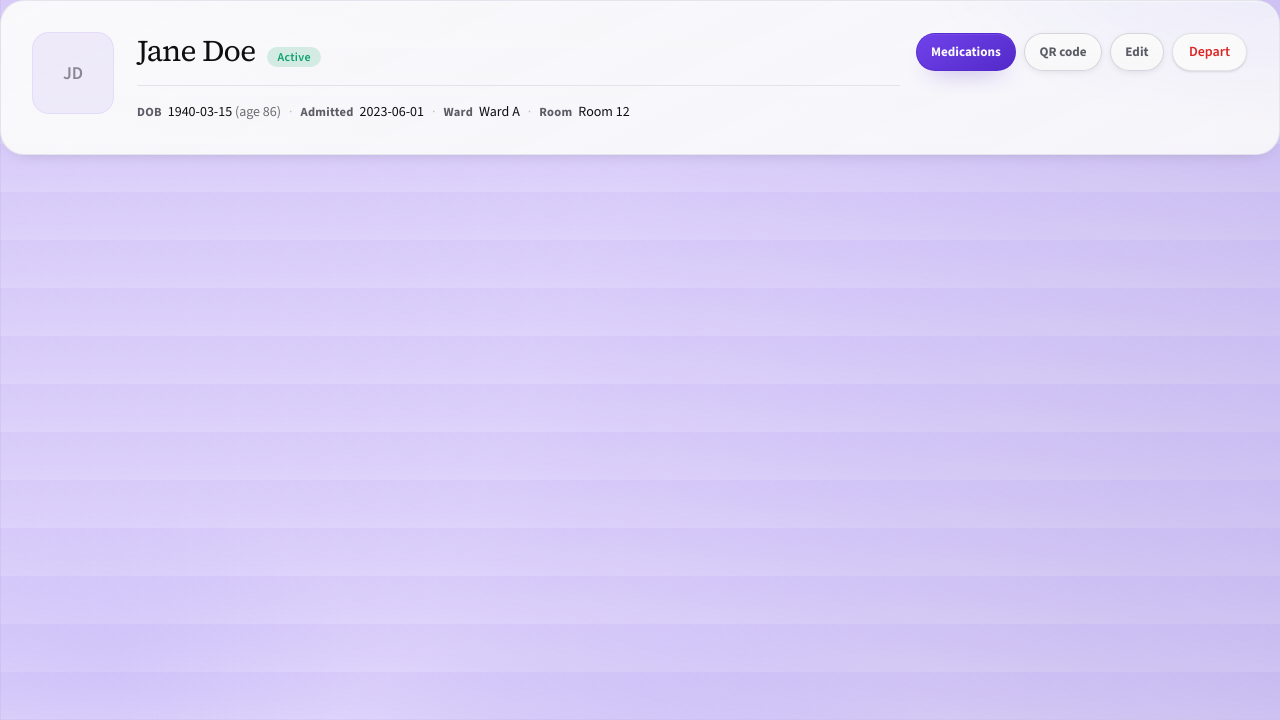
ResidentHeader › shows portrait file input in edit mode for an active resident
The image size is (1280, 720).
Click the button "Edit". click: coordinates (1137, 52)
box: [1110,33,1164,71]
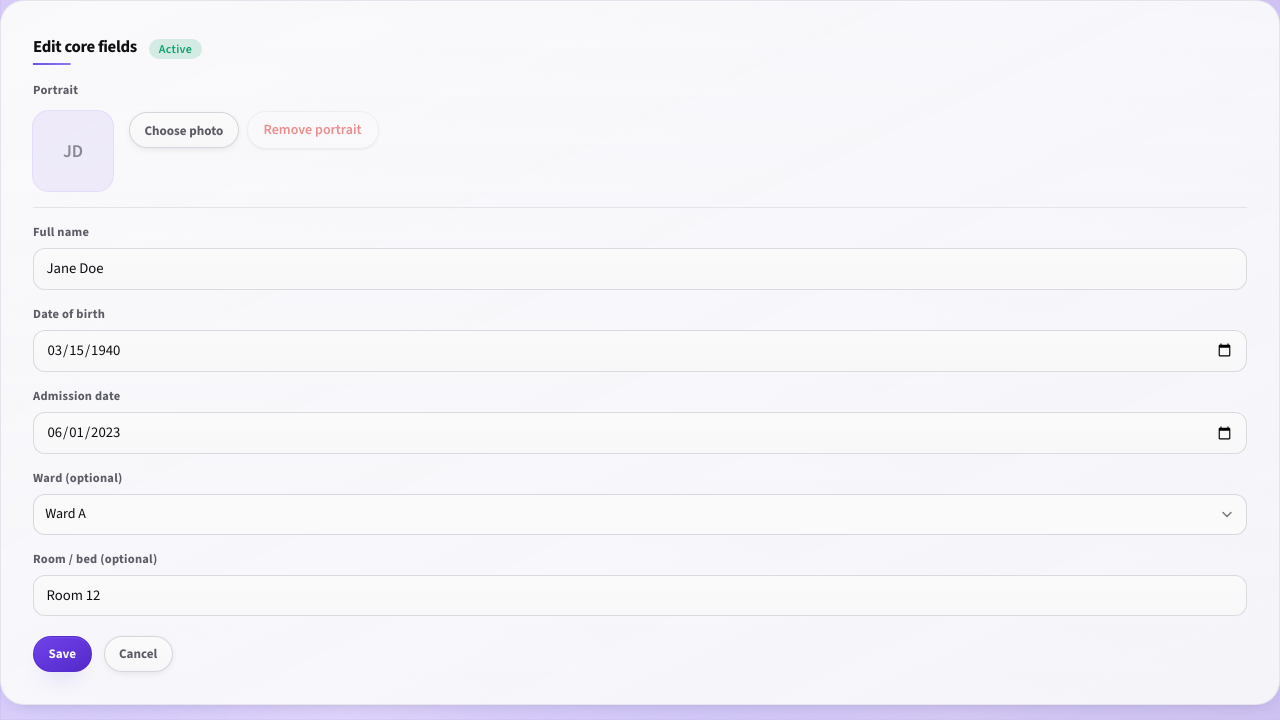
Expected: the file field with test id "resident-portrait-file" is shown, [129,112,239,148]
